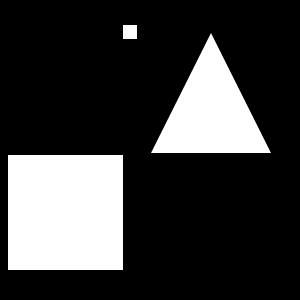circle: (8, 155, 123, 270), (123, 25, 137, 39)
triangle: (151, 33, 271, 153)
